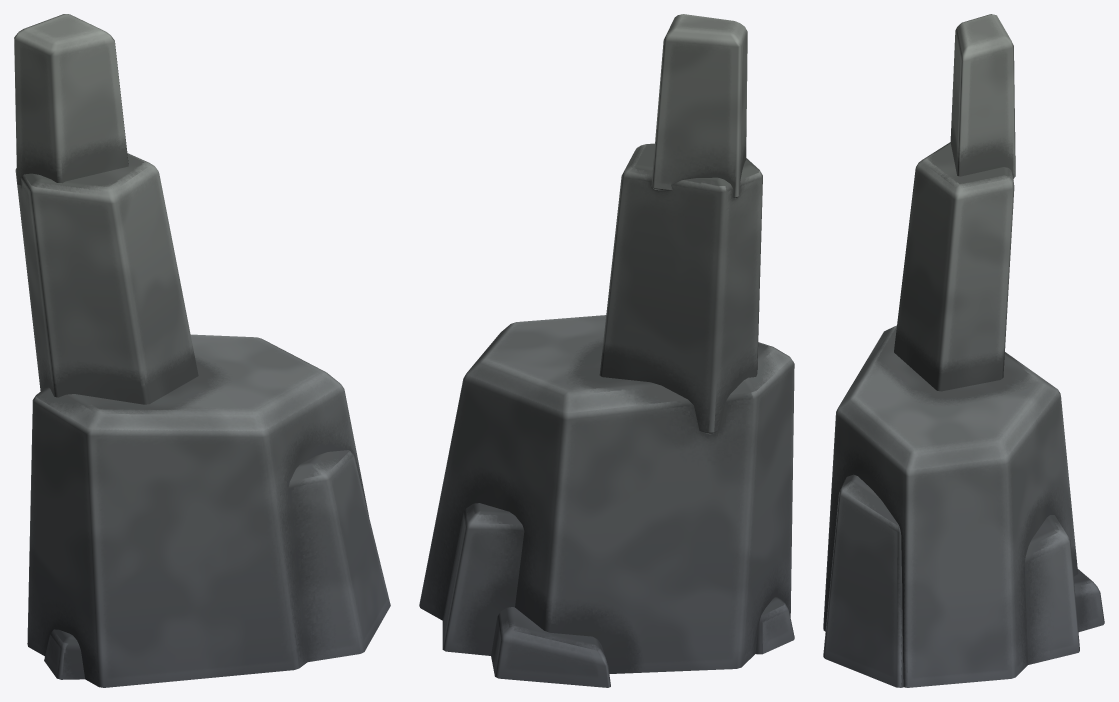
Rendered from spire_3.glb.
The picture shows the model from 3 angles, left to right: view 1: azimuth 30°, elevation 25°; view 2: azimuth 150°, elevation 25°; view 3: azimuth 270°, elevation 25°; orthographic projection. The views are drawn at different scales.
Parts seen in each view (by area): view 1: spire_3; view 2: spire_3; view 3: spire_3.
Part boxes in pixels (x1=…): spire_3: x1=14, y1=14, x2=390, y2=687; spire_3: x1=419, y1=14, x2=794, y2=687; spire_3: x1=823, y1=14, x2=1104, y2=687.
Bounding box in the file's own units: 2 × 3.6 × 1.7.
1 material, 1 textured.
